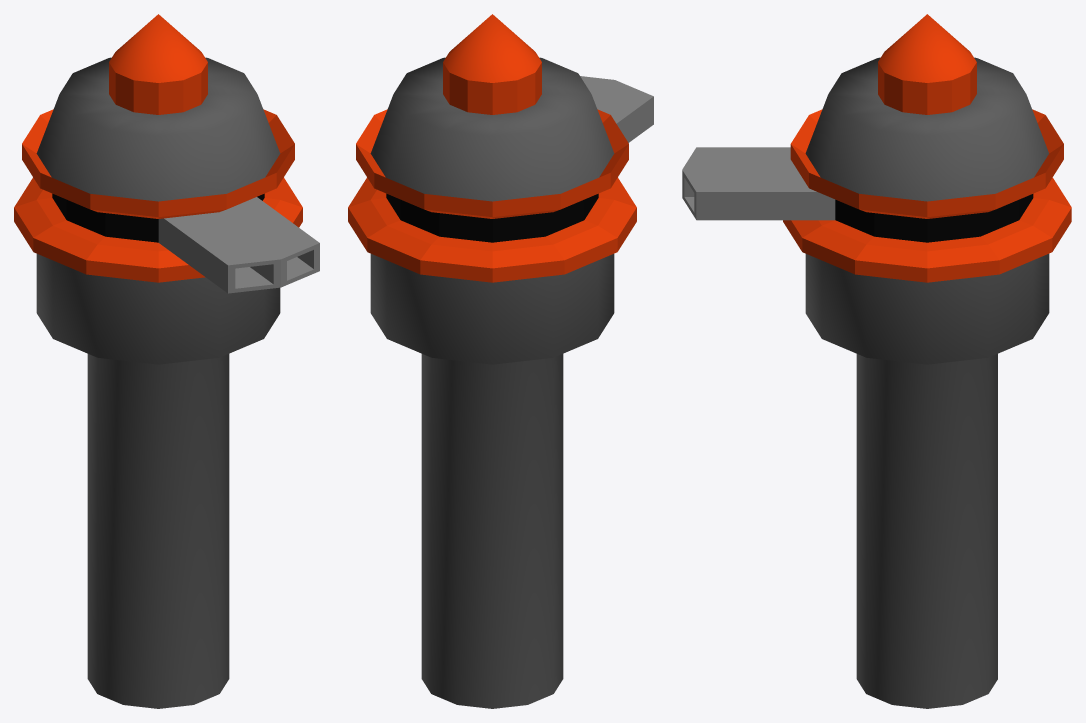
Rendered from MS_Turret.fbx.
3 renders of one model, left to right at view 1: azimuth 30°, elevation 25°; view 2: azimuth 150°, elevation 25°; view 3: azimuth 270°, elevation 25°, orthographic.
Visible parts, largest first — view 1: pCylinder1; view 2: pCylinder1; view 3: pCylinder1.
Boxes of the visible parts, bbox=[...] form: pCylinder1: bbox=[14, 14, 319, 708]; pCylinder1: bbox=[348, 14, 653, 708]; pCylinder1: bbox=[682, 14, 1071, 708].
Bounding box in the file's own units: 8.95 × 22.73 × 12.07.
